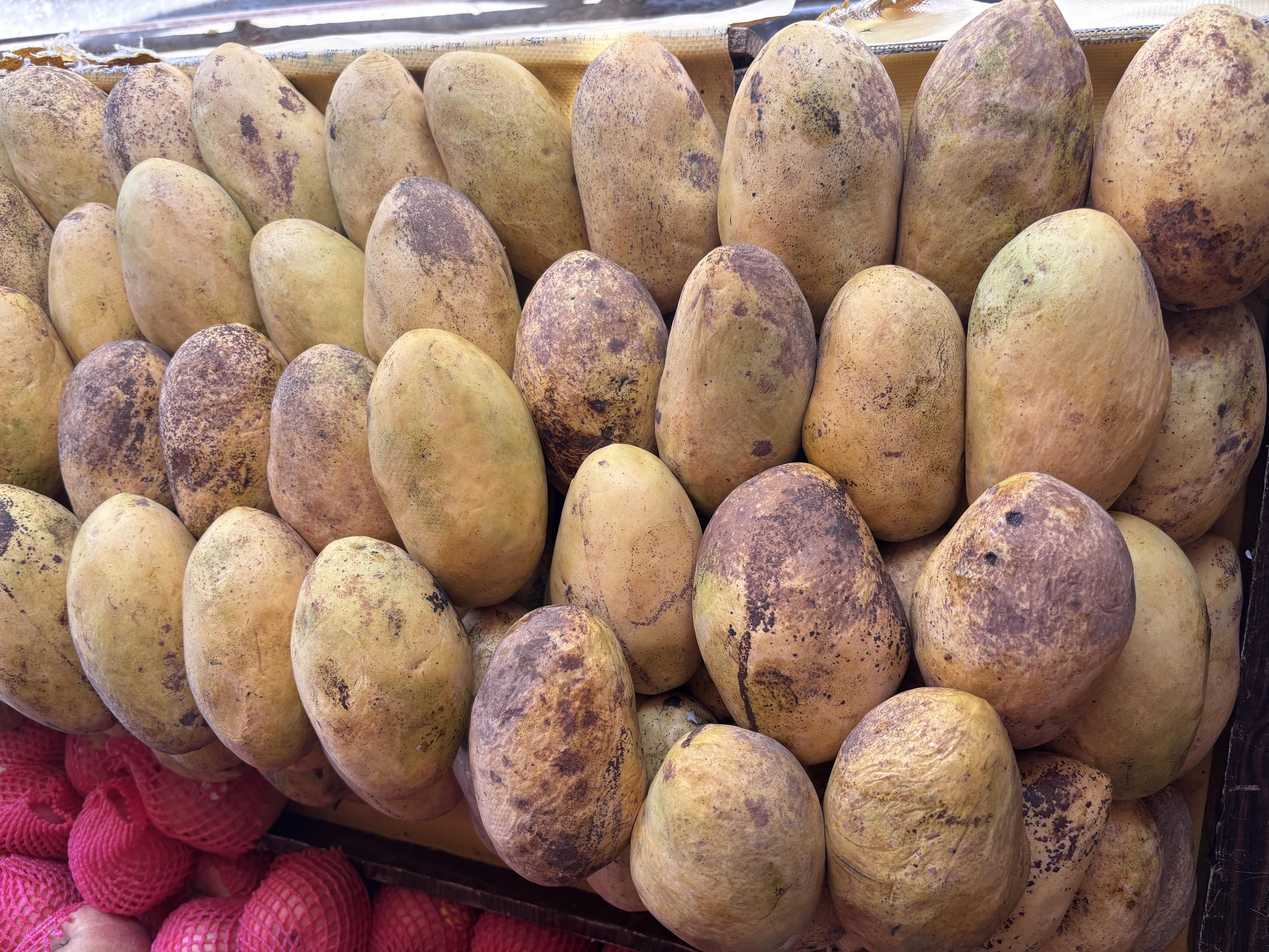mango: (368, 329, 548, 606), (469, 604, 646, 885), (291, 537, 471, 805), (631, 724, 824, 952)
occluded: (693, 463, 909, 764), (896, 0, 1093, 319), (911, 472, 1135, 748), (966, 209, 1170, 507), (718, 22, 902, 325), (824, 687, 1029, 952), (1091, 5, 1269, 310), (1047, 513, 1209, 799), (802, 266, 965, 540), (656, 244, 816, 514), (572, 34, 722, 310), (67, 494, 215, 754), (549, 444, 701, 694), (423, 52, 589, 278), (513, 251, 667, 492), (1114, 301, 1266, 545), (183, 508, 317, 771), (364, 176, 521, 375), (116, 158, 263, 352), (0, 484, 113, 733), (268, 344, 401, 552), (192, 44, 339, 230), (159, 323, 286, 537), (979, 750, 1111, 952), (324, 51, 448, 248), (58, 339, 175, 520), (0, 66, 117, 227), (1041, 800, 1163, 952), (250, 219, 368, 361), (48, 203, 144, 363), (0, 287, 72, 495), (1183, 534, 1242, 769), (104, 63, 210, 187), (0, 175, 53, 309), (637, 692, 715, 783), (463, 602, 528, 694), (453, 747, 493, 850), (587, 843, 646, 911)
